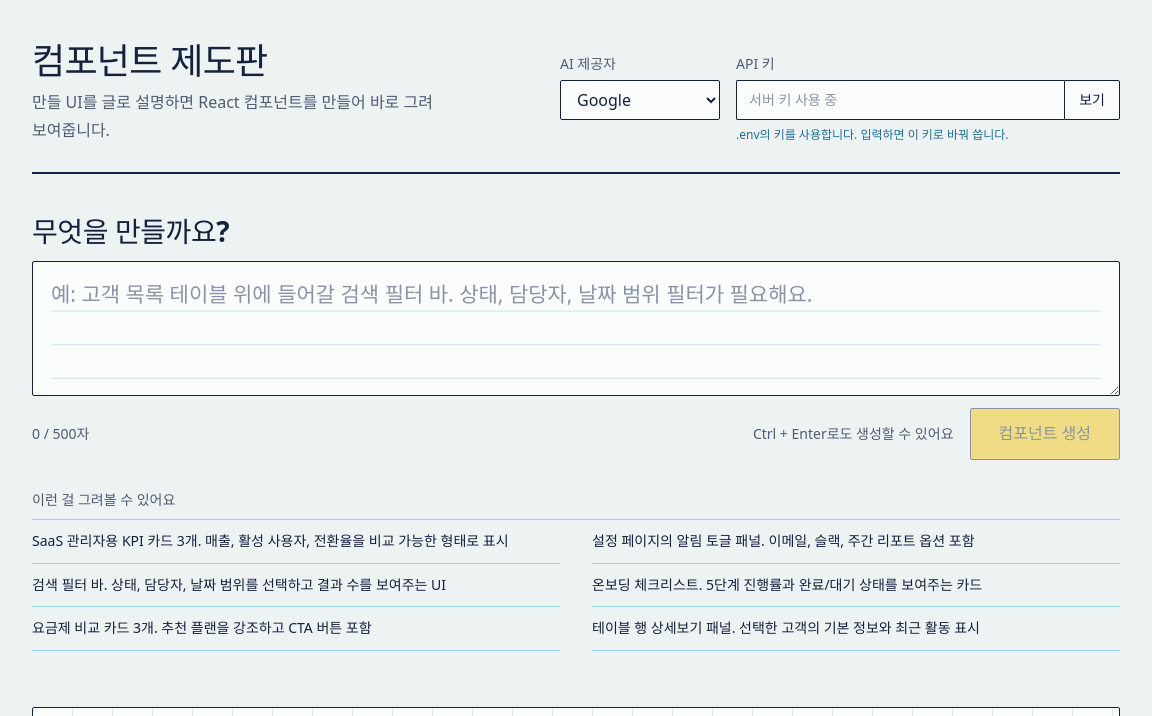
Test: App 상태 유지 › 컴포넌트 생성을 요청하면 프롬프트가 최근 프롬프트에 추가된다
Type "프로필 카드" into the text box labelled "무엇을 만들까요?".
click(576, 328); type("프로필 카드")  # box 32,261 -> 1120,396
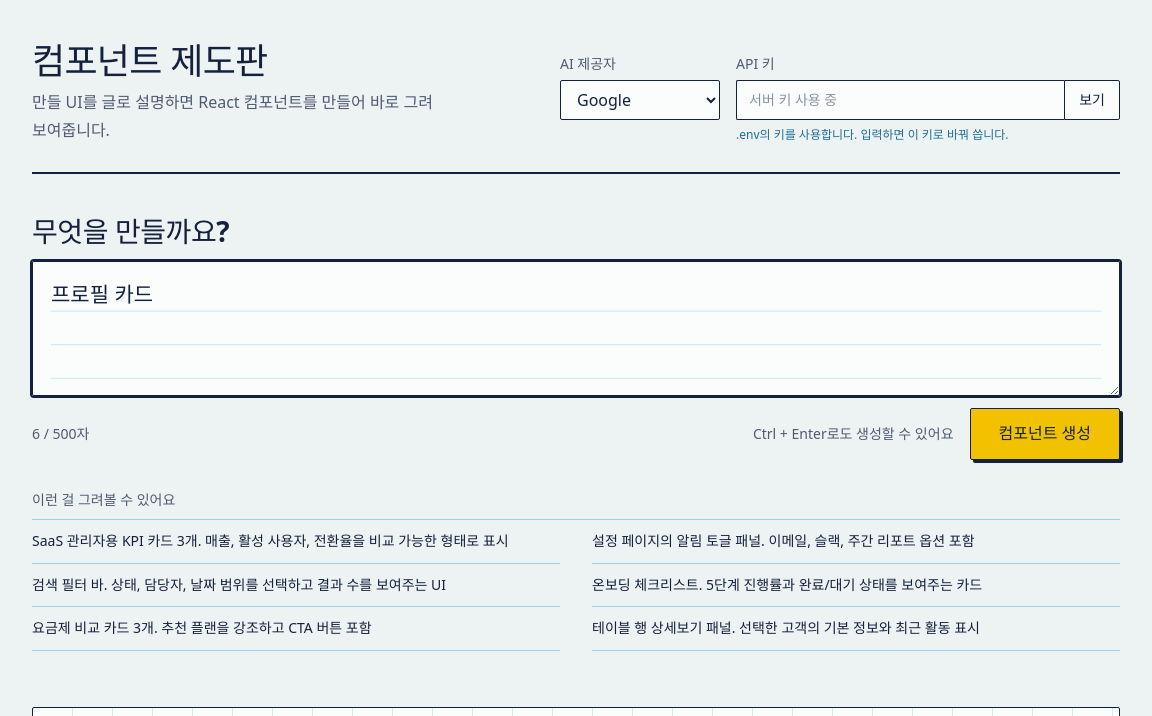
Click the button "컴포넌트 생성".
click(1045, 434)  # box 970,408 -> 1120,460
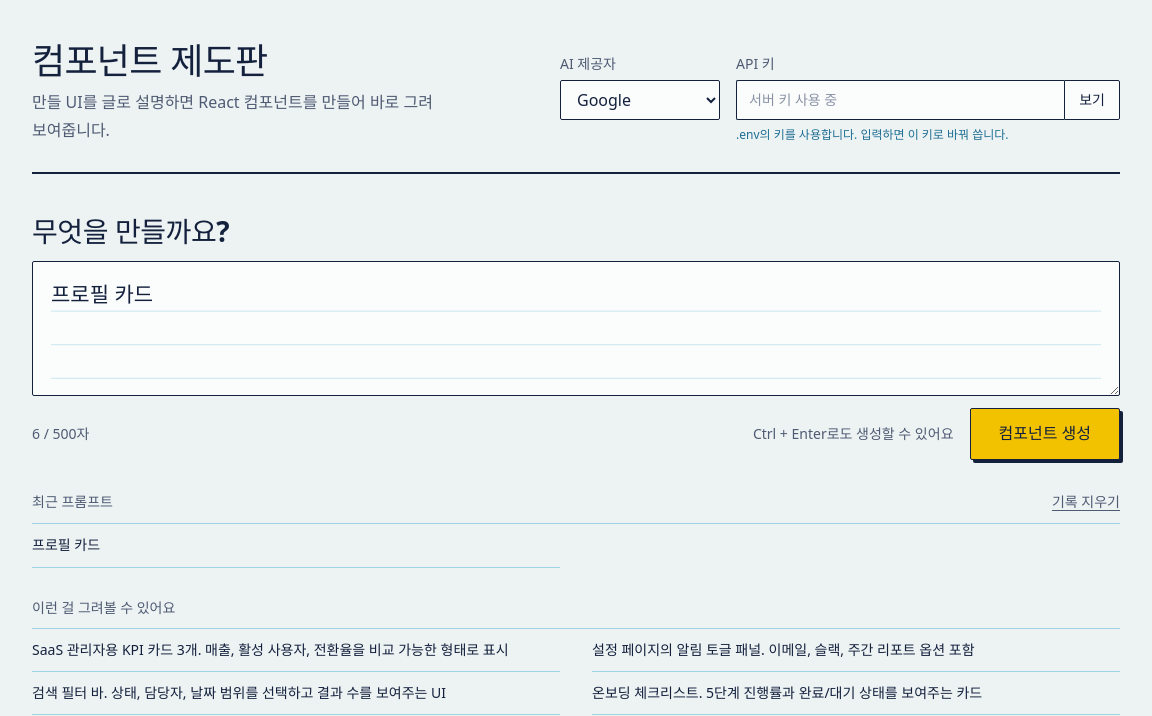
Check: the button "프로필 카드" is shown, box 32,524 -> 560,567
